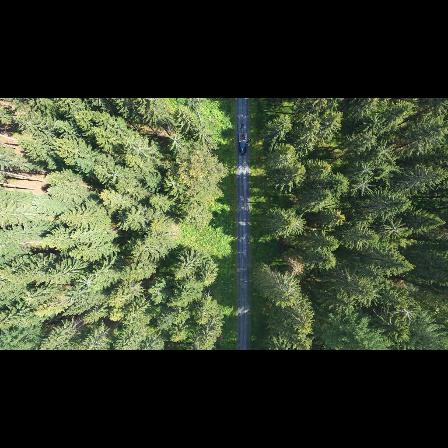Sick: (380, 217, 408, 244), (370, 141, 398, 165), (394, 302, 422, 326), (350, 175, 376, 198), (77, 272, 98, 293), (166, 130, 186, 152), (355, 161, 376, 178)
